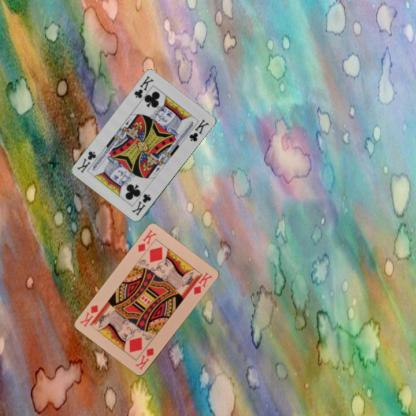Kc: (132, 73, 155, 100), (129, 191, 152, 217)
Kd: (135, 227, 158, 254), (133, 345, 155, 371)
